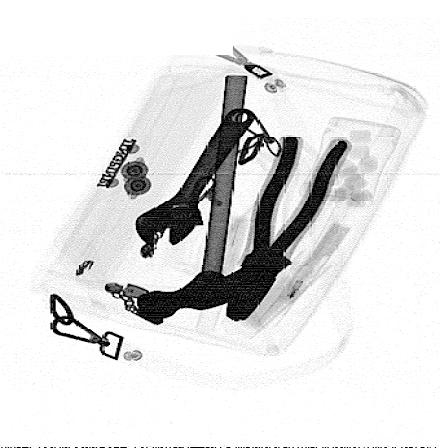Hammer: (137, 73, 293, 318)
Pliers: (221, 129, 352, 322)
Wrench: (137, 109, 255, 254)
